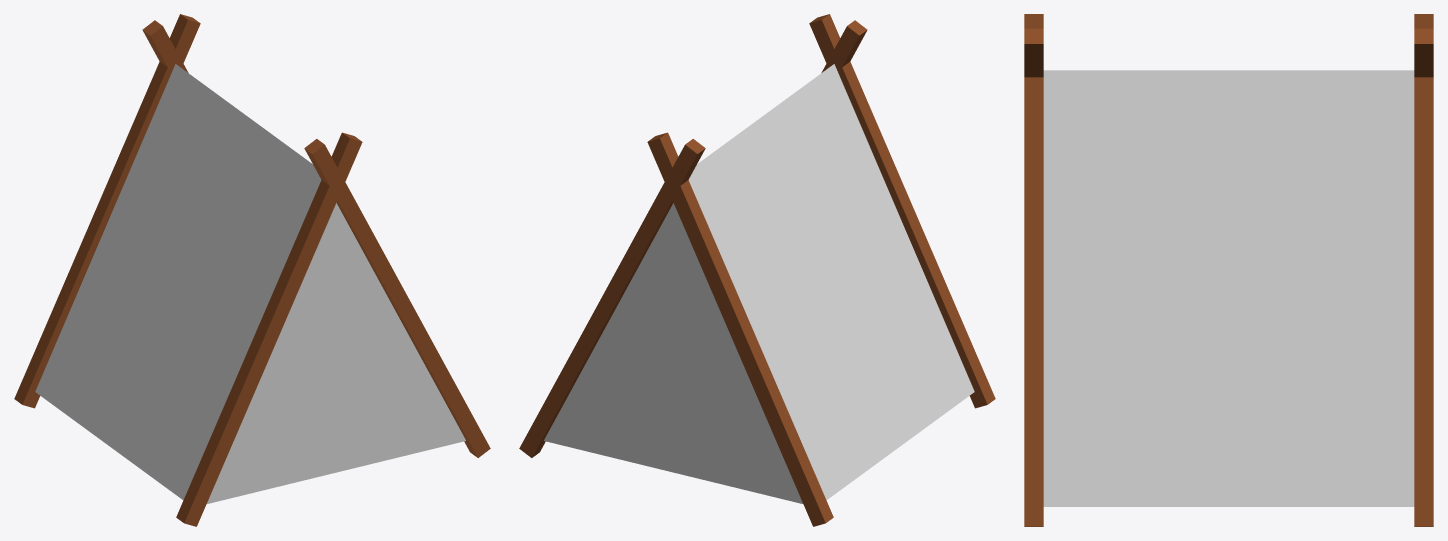
Rendered from Tent.fbx.
3 views of the same model, side by side, from view 1: azimuth 30°, elevation 25°; view 2: azimuth 150°, elevation 25°; view 3: azimuth 270°, elevation 25° (orthographic). The views are drawn at different scales.
Parts seen in each view (by area): view 1: Tent; view 2: Tent; view 3: Tent.
Boxes of the visible parts, box(x1,y1,x2,y2) form: Tent: box(14, 14, 490, 526); Tent: box(519, 14, 995, 526); Tent: box(1024, 14, 1433, 526).
Size of the model in its own units: 218 by 239 by 210.
